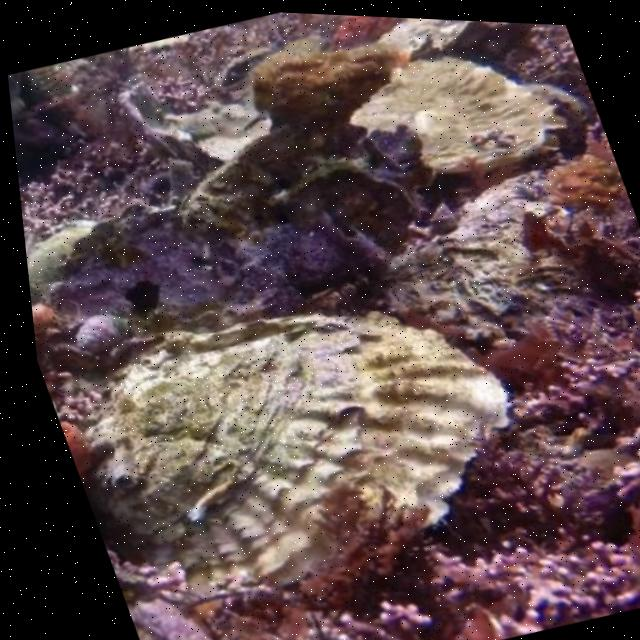Oyster-Closed: (88, 313, 521, 601)
Oyster-Indeterminate: (359, 52, 550, 176)
